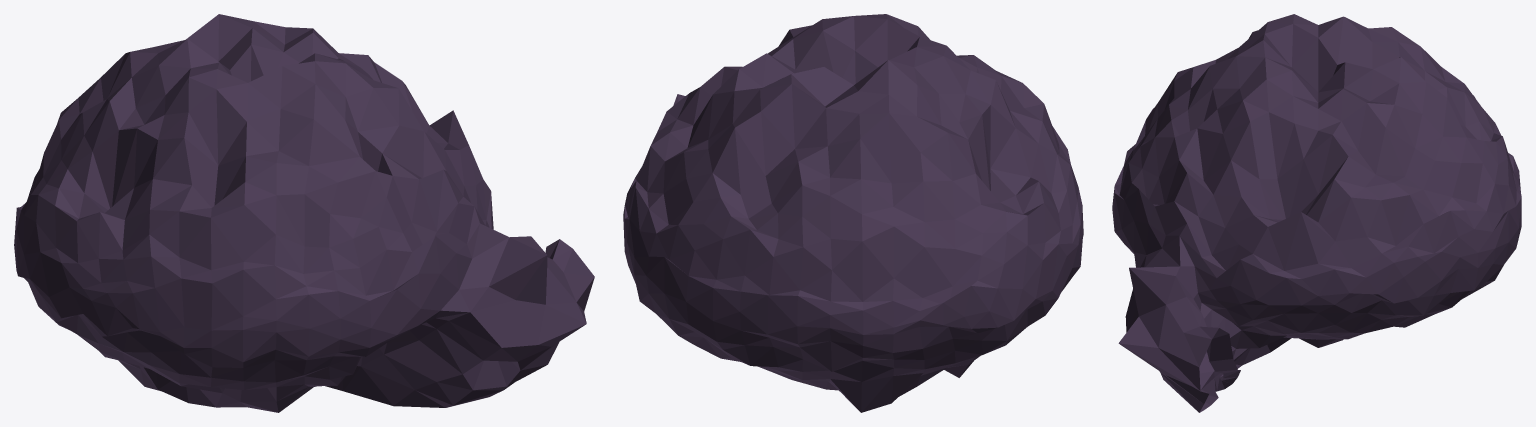
The model's file is Env_Cave.fbx.
3 renders of one model, left to right at view 1: azimuth 30°, elevation 25°; view 2: azimuth 150°, elevation 25°; view 3: azimuth 270°, elevation 25°, orthographic. The views are drawn at different scales.
Parts seen in each view (by area): view 1: Cave; view 2: Cave; view 3: Cave.
Boxes of the visible parts, x1,y1,x2,y2 form: Cave: (14, 14, 594, 412); Cave: (623, 14, 1083, 412); Cave: (1112, 14, 1521, 412).
Size of the model in its own units: 2827 by 1965 by 2469.
